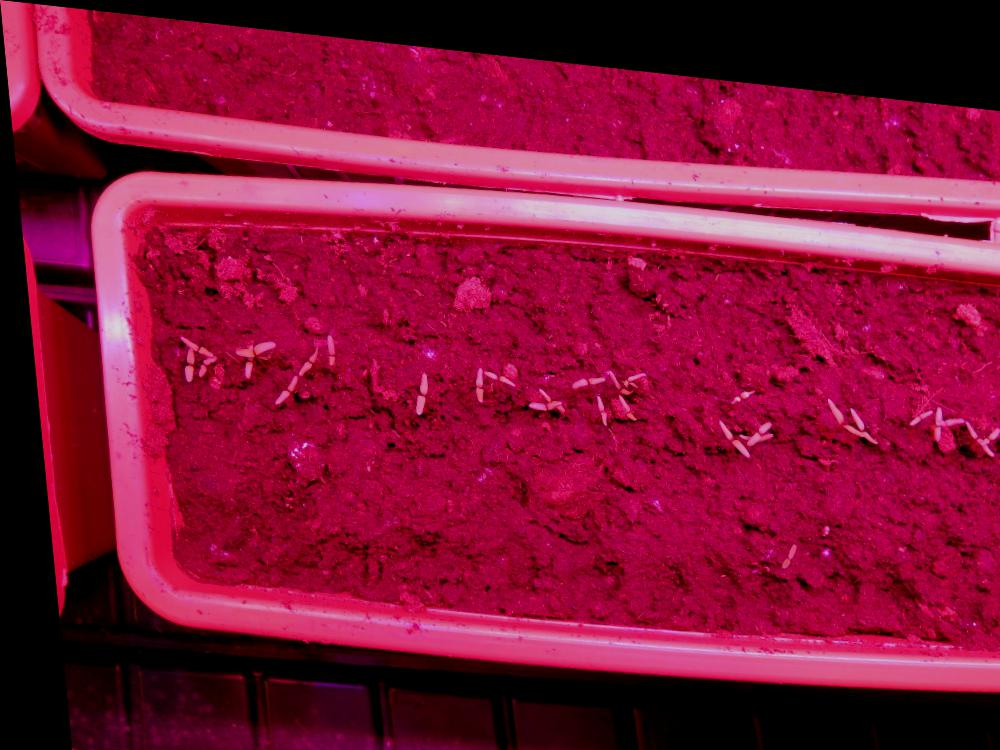crop: (263, 365, 293, 402), (403, 359, 423, 409), (288, 334, 314, 371), (560, 357, 599, 379), (899, 383, 928, 407), (474, 356, 509, 375), (721, 367, 750, 389), (464, 352, 478, 393), (587, 379, 601, 414), (317, 323, 329, 361)
weed: (768, 521, 788, 554)
